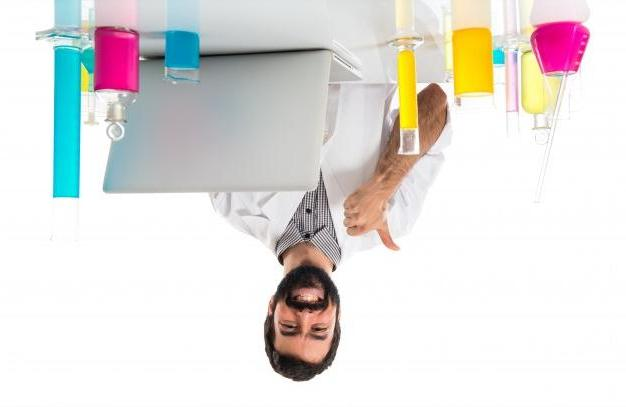thumbsdown: (343, 199, 400, 251)
